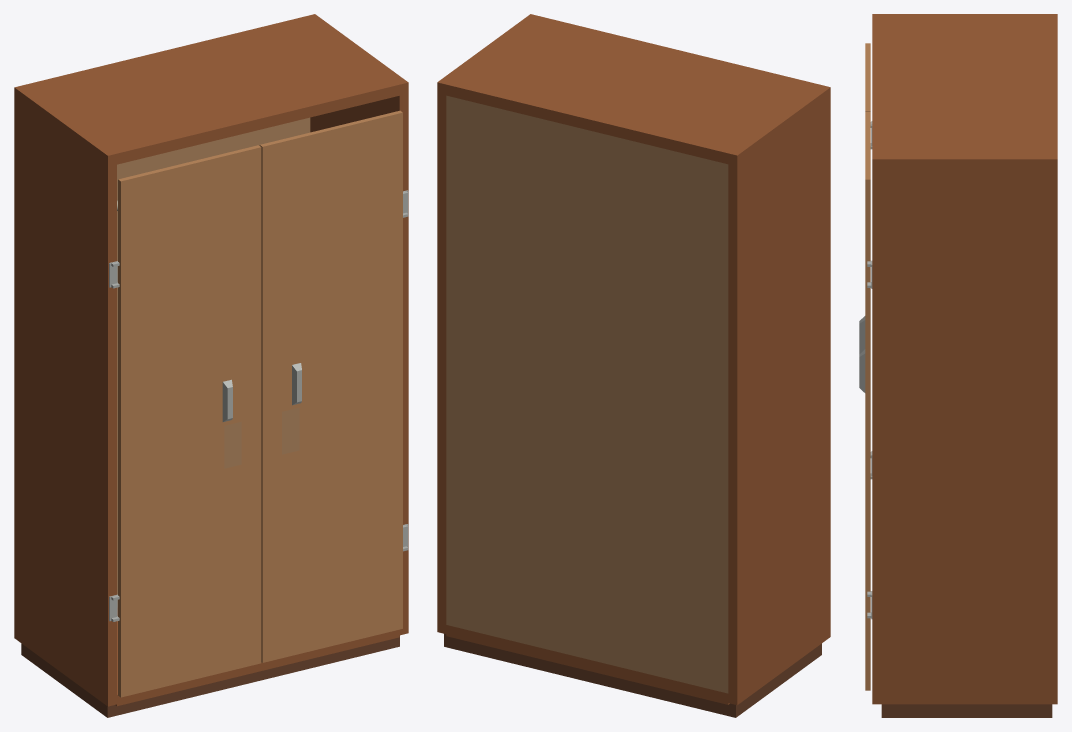
3 views of the same model, side by side, from view 1: azimuth 30°, elevation 25°; view 2: azimuth 150°, elevation 25°; view 3: azimuth 270°, elevation 25° (orthographic).
Visible parts, largest first — view 1: wardrobe-body, wardrobe-left-panel, wardrobe-right-panel, wardrobe-lining, wardrobe-base, wardrobe-hinge-mounts; view 2: wardrobe-lining, wardrobe-body, wardrobe-base; view 3: wardrobe-body, wardrobe-right-panel, wardrobe-base, wardrobe-left-panel, wardrobe-hinge-mounts.
Part boxes in pixels (box(x1,y1,x2,y2)): wardrobe-body: box(14, 14, 408, 706); wardrobe-left-panel: box(118, 145, 261, 697); wardrobe-right-panel: box(259, 110, 402, 662); wardrobe-lining: box(117, 117, 310, 607); wardrobe-base: box(21, 635, 399, 717); wardrobe-hinge-mounts: box(109, 190, 408, 621); wardrobe-lining: box(446, 95, 728, 693); wardrobe-body: box(437, 14, 830, 705); wardrobe-base: box(444, 633, 821, 717); wardrobe-body: box(872, 14, 1057, 704); wardrobe-right-panel: box(865, 112, 870, 690); wardrobe-base: box(881, 704, 1052, 717); wardrobe-left-panel: box(865, 43, 870, 111); wardrobe-hinge-mounts: box(867, 121, 872, 619).
Bounding box in the file's own units: 1 × 1.8 × 0.577.
